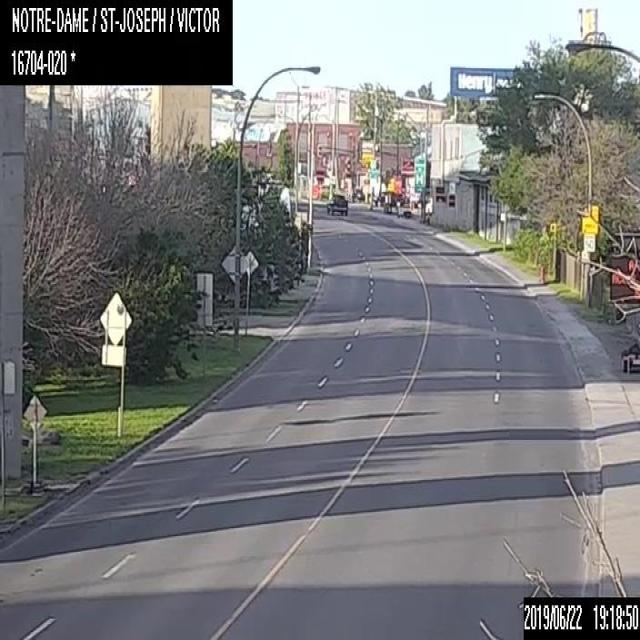construction: (610, 224, 639, 376)
vehicle: (326, 193, 347, 214), (355, 188, 364, 200)
